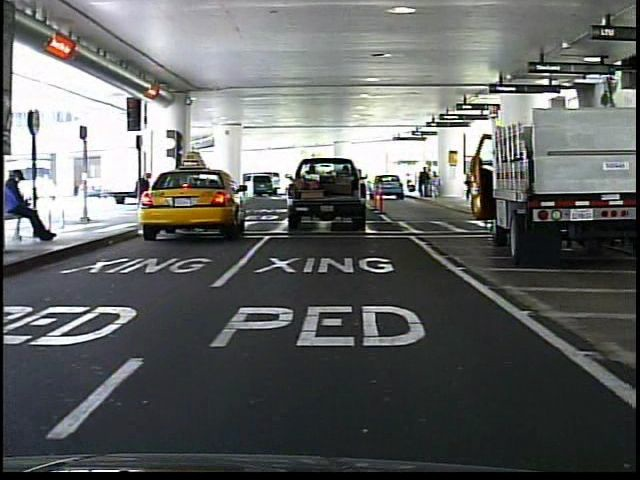person: (13, 165, 63, 245), (134, 166, 156, 220)
